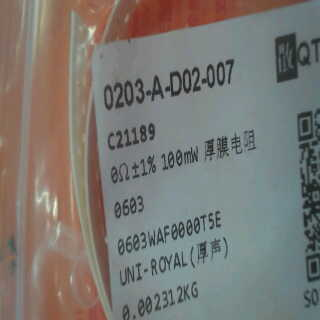0R: (110, 151, 162, 222)
